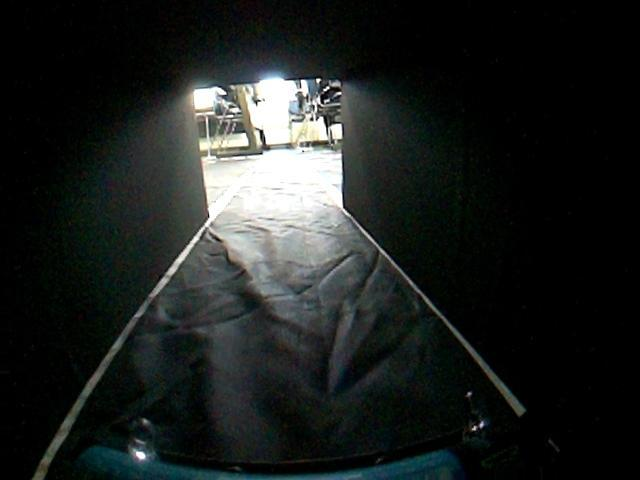straight: (1, 155, 640, 480)
